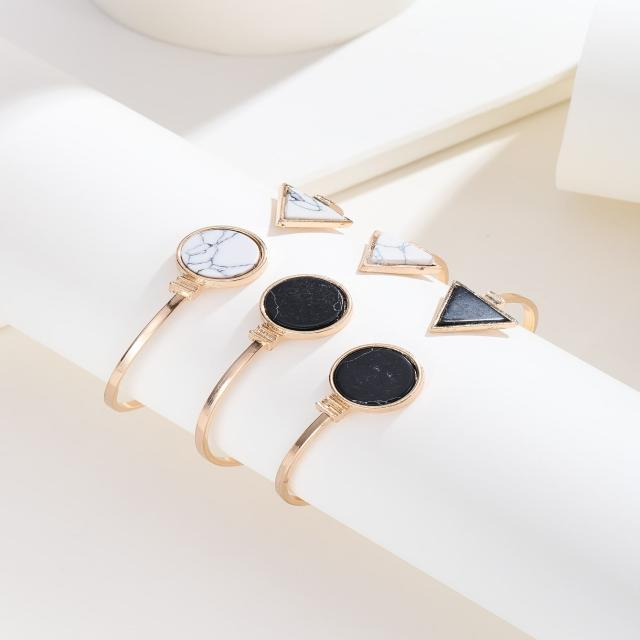bracelet: (50, 140, 615, 535)
